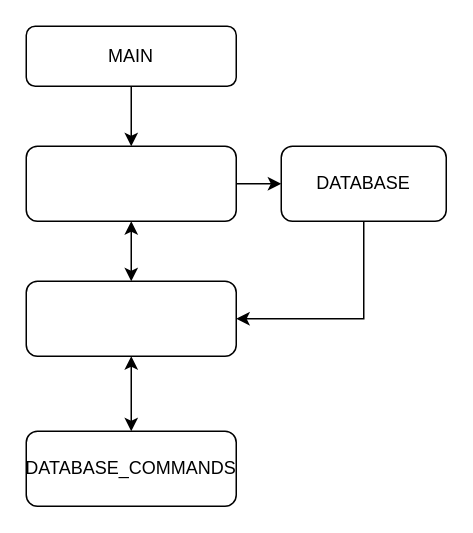
This 473x533 diagram has some shape labels left out. The shapes that lost their labels are listed below. From the top down, each one's centre as x and y in pixels, then its label:
At point 130,183: "SERVER_BOILERPLATE".
At point 130,318: "COMMAND_HANDLER".
